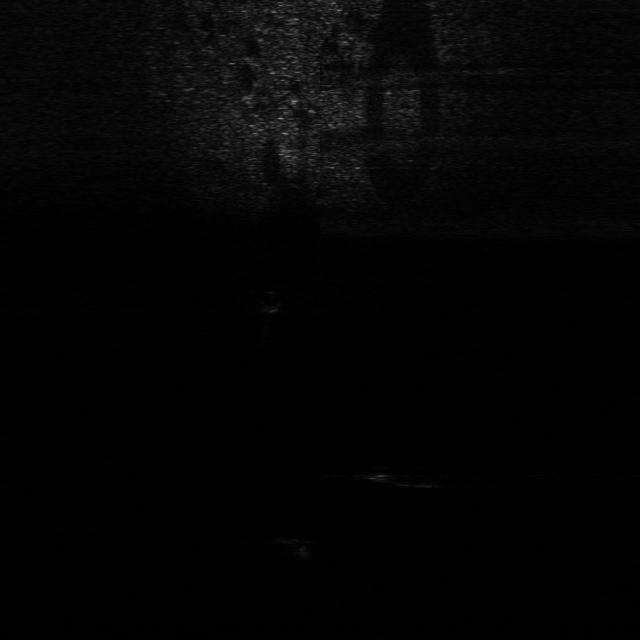ball: (253, 288, 286, 315)
metal bucket: (267, 535, 314, 560)
tyre: (363, 460, 451, 492)
